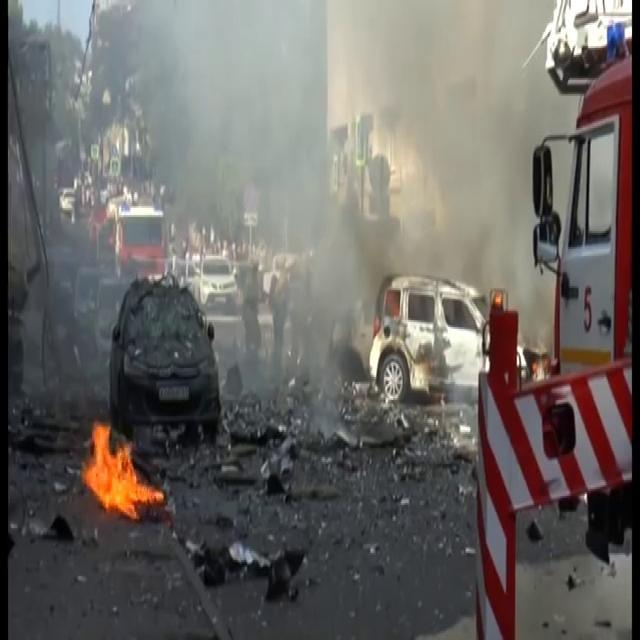Fire: (80, 412, 161, 524)
Smoke: (99, 0, 561, 345), (8, 6, 132, 406)
